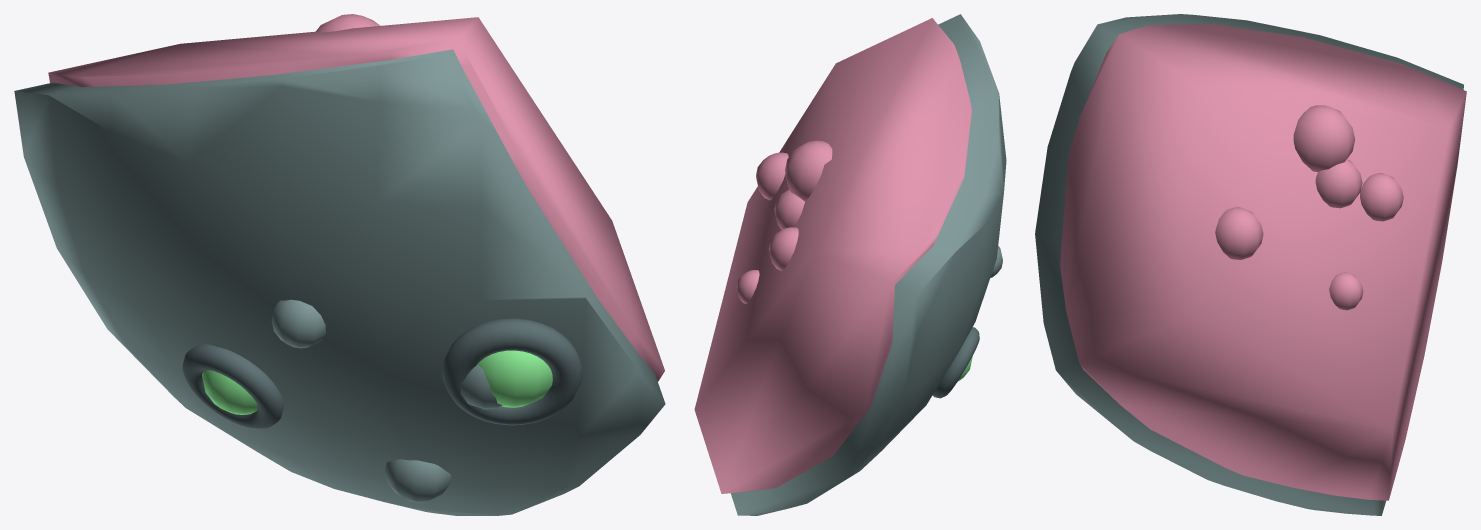
File: chunk1.glb
3 renders of one model, left to right at view 1: azimuth 30°, elevation 25°; view 2: azimuth 150°, elevation 25°; view 3: azimuth 270°, elevation 25°, orthographic. The views are drawn at different scales.
Visible parts, largest first — view 1: skin, flesh, lip, glow; view 2: flesh, skin, lip; view 3: flesh, skin.
Part boxes in pixels (left/top/right/bottom): skin: left=14, top=49, right=665, bottom=515; flesh: left=48, top=14, right=664, bottom=381; lip: left=182, top=318, right=582, bottom=428; glow: left=202, top=350, right=552, bottom=414; flesh: left=694, top=18, right=971, bottom=493; skin: left=731, top=14, right=1006, bottom=515; lip: left=932, top=327, right=979, bottom=398; flesh: left=1060, top=24, right=1466, bottom=500; skin: left=1035, top=14, right=1463, bottom=515.
Bounding box in the file's own units: 1.01 × 1.36 × 1.19.
